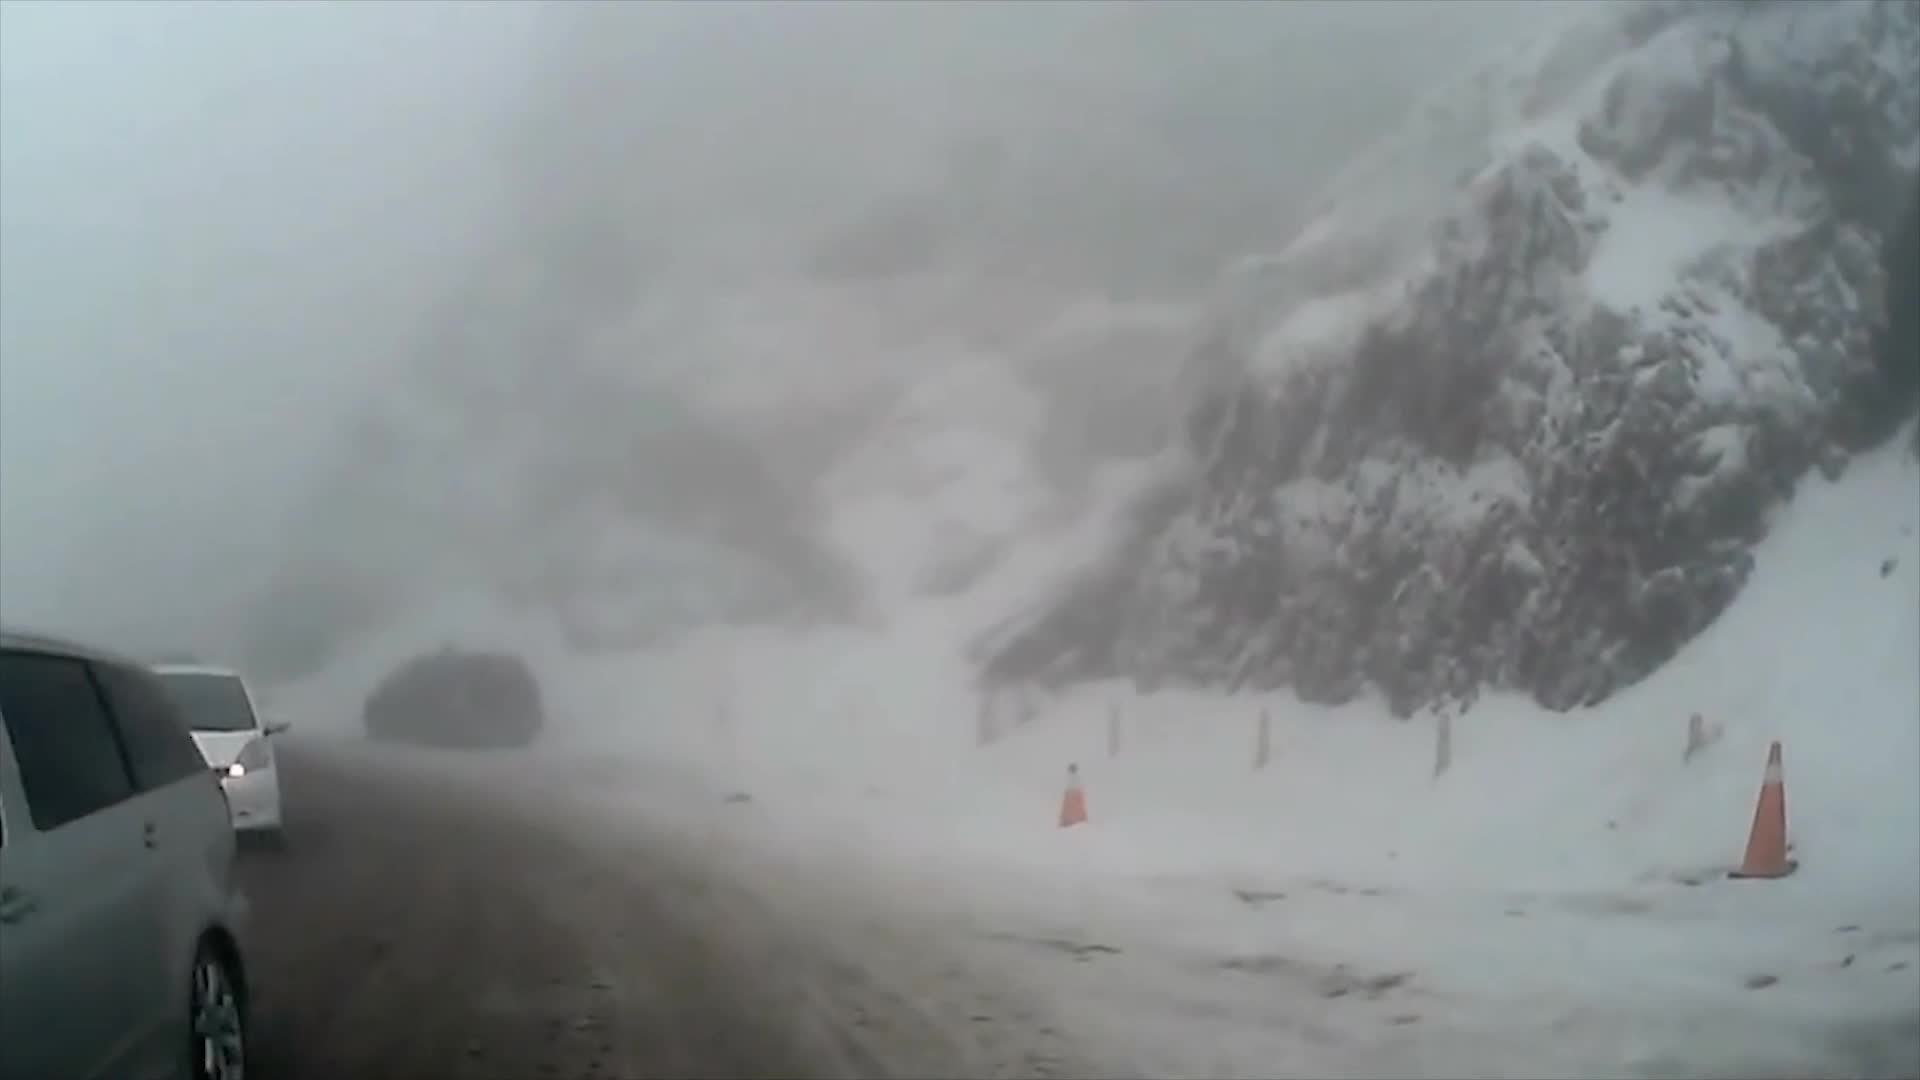vehicle: (0, 630, 255, 1080), (94, 666, 290, 862), (363, 650, 545, 752)
